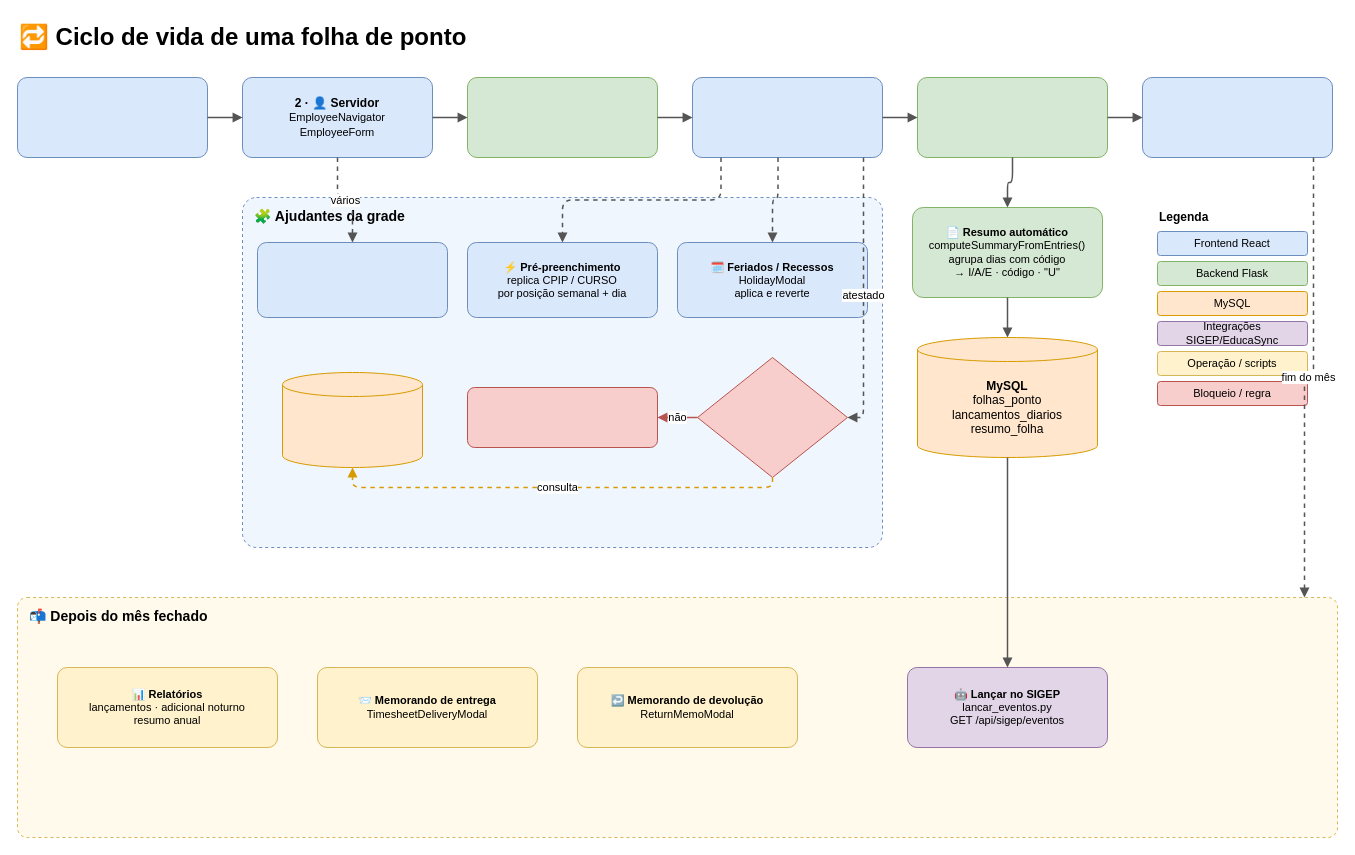
Some shapes in this 1355 by 855 pixel diagram are drawn without their labels. Here are the shapes that lost their labels. From the top down, the centre of each, then its label:
At (112,117): "1 · 🔐 Login LoginScreen credenciais do .env".
At (562,117): "3 · 📅 Mês / Ano loadCompleteTimesheet() carrega ou cria folha".
At (787,117): "4 · ✏️ Grade diária TimesheetGrid 31 dias × 2 turnos".
At (1012,117): "5 · 💾 Auto-save saveCompleteTimesheet() lançamentos + resumo".
At (1237,117): "6 · 🖨️ Impressão A4 Pág. 1 Frequência Pág. 2 Resumo".
At (352,280): "📦 Geração em lote BatchTimesheetModal vários servidores + impressão".
At (352,420): "vw_relatorio_ atestados_*".
At (562,417): "⛔ bloqueia lançamento limite bimestral / anual".
At (772,417): "Atestado dentro do limite?".
